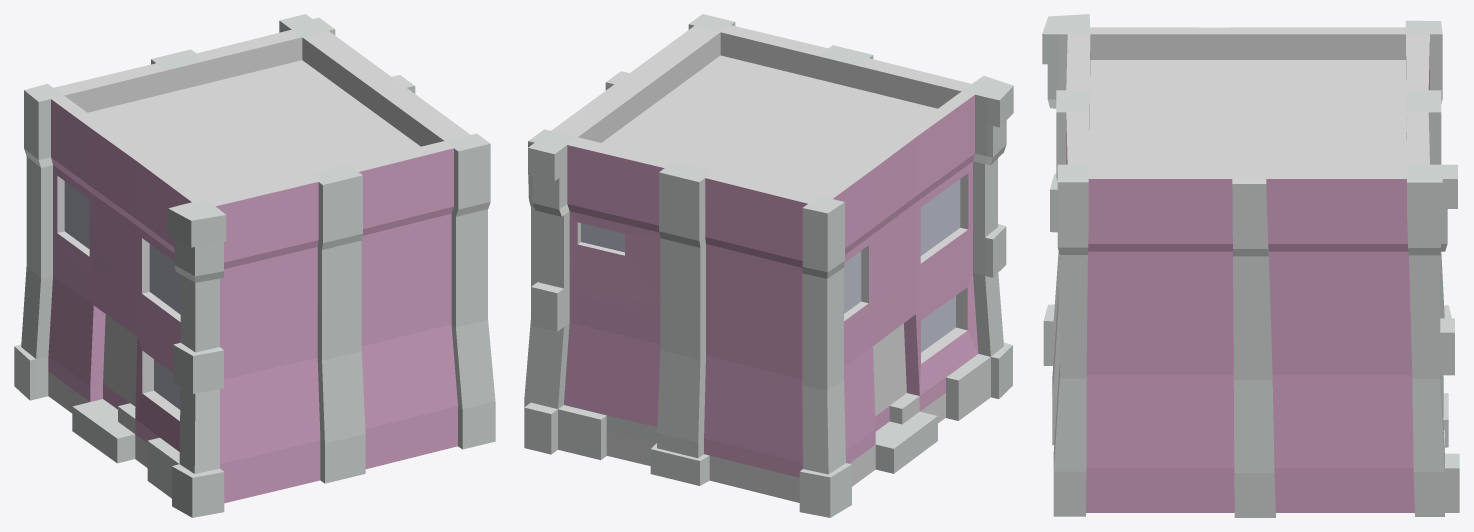
The model's file is Modelo TOON Casinha Laje texturemap1.fbx.
3 renders of one model, left to right at view 1: azimuth 30°, elevation 25°; view 2: azimuth 150°, elevation 25°; view 3: azimuth 270°, elevation 25°, orthographic. The views are drawn at different scales.
Visible parts, largest first — view 1: Cube.001; view 2: Cube.001; view 3: Cube.001.
Part boxes in pixels (box(x1,y1,x2,y2)): Cube.001: box(14, 14, 495, 517); Cube.001: box(524, 14, 1013, 517); Cube.001: box(1042, 14, 1459, 517).
Bounding box in the file's own units: 219 × 198 × 225.
